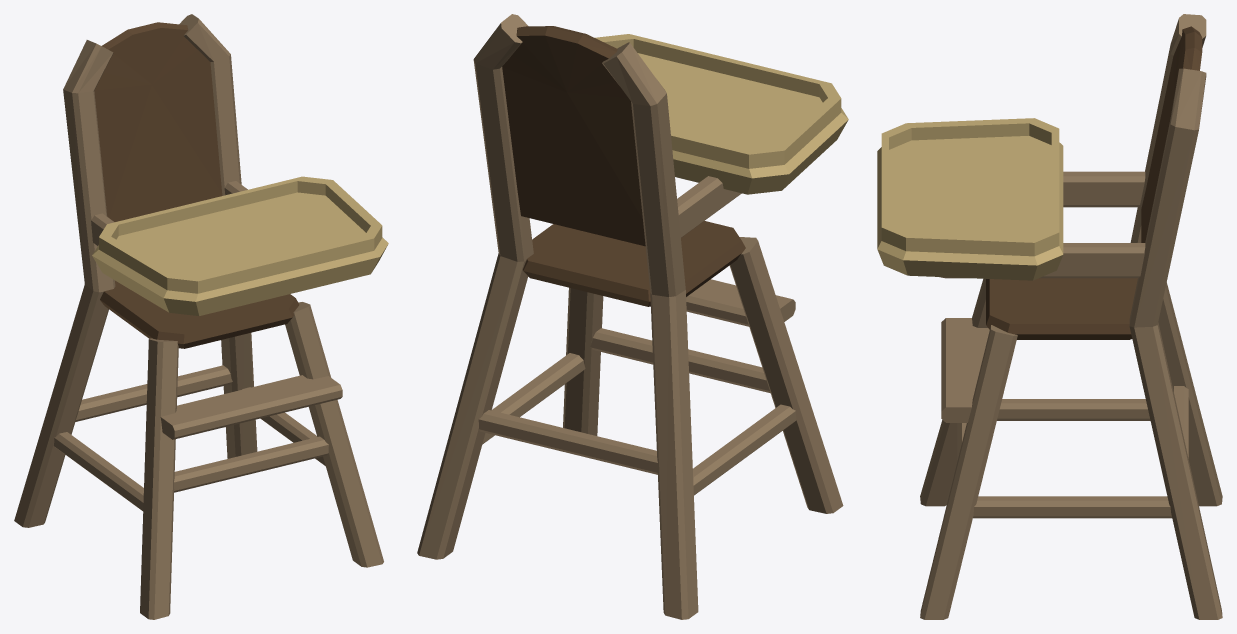
File: restaurant-highchair-ef6224.glb
3 views of the same model, side by side, from view 1: azimuth 30°, elevation 25°; view 2: azimuth 150°, elevation 25°; view 3: azimuth 270°, elevation 25° (orthographic). The views are drawn at different scales.
Parts seen in each view (by area): view 1: highchair-body, tray-mesh; view 2: highchair-body, tray-mesh; view 3: highchair-body, tray-mesh.
Boxes of the visible parts, x1,y1,x2,y2 form: highchair-body: [14, 14, 383, 619]; tray-mesh: [92, 176, 388, 316]; highchair-body: [417, 14, 843, 619]; tray-mesh: [594, 34, 848, 194]; highchair-body: [920, 14, 1222, 619]; tray-mesh: [877, 118, 1063, 280].
Bounding box in the file's own units: 0.54 × 0.9974 × 0.6031.
